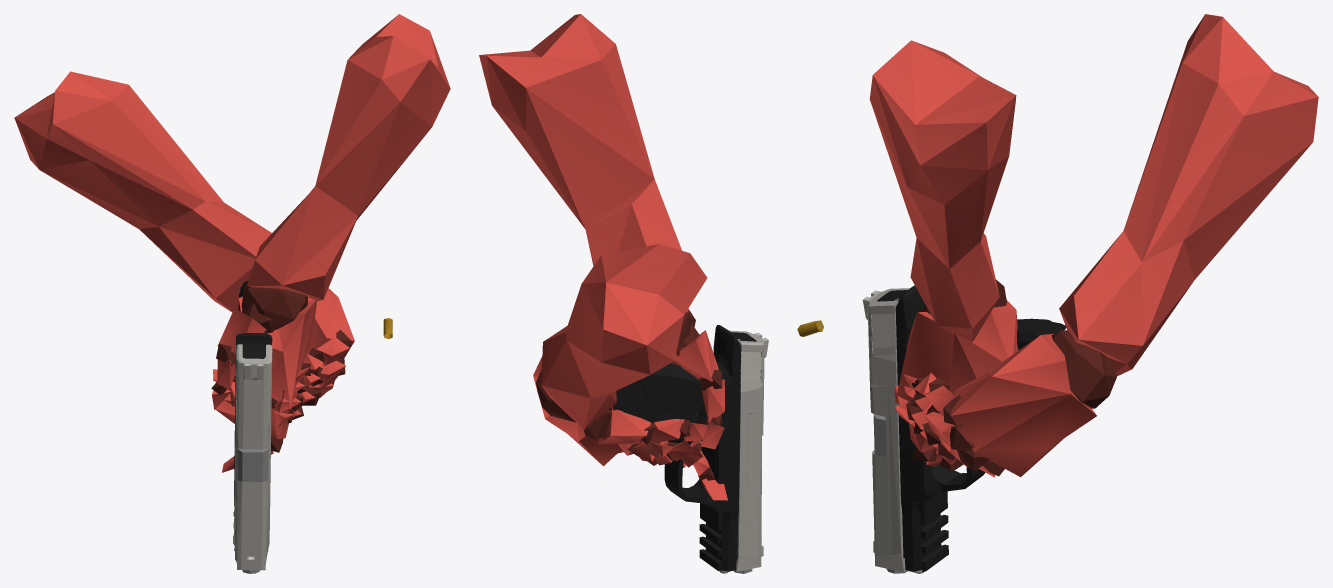
File: M&P9shootExtendLowPoly_000021.obj
The picture shows the model from 3 angles, left to right: view 1: azimuth 30°, elevation 25°; view 2: azimuth 150°, elevation 25°; view 3: azimuth 270°, elevation 25°; orthographic projection. The views are drawn at different scales.
Parts seen in each view (by area): view 1: Beta_Surface, slide_平面.002, Beta_Joints, barrel_円.001, body_平面; view 2: Beta_Surface, body_平面, slide_平面.002, Beta_Joints; view 3: Beta_Surface, body_平面, slide_平面.002, Beta_Joints.
Boxes of the visible parts, x1,y1,x2,y2 form: Beta_Surface: (14, 14, 450, 472); slide_平面.002: (234, 344, 272, 570); Beta_Joints: (211, 285, 351, 452); barrel_円.001: (237, 448, 267, 573); body_平面: (233, 280, 272, 550); Beta_Surface: (479, 14, 727, 500); body_平面: (613, 325, 740, 571); slide_平面.002: (721, 330, 768, 572); Beta_Joints: (536, 309, 722, 487); Beta_Surface: (869, 14, 1318, 477); body_平面: (895, 285, 1066, 571); slide_平面.002: (862, 288, 922, 572); Beta_Joints: (906, 279, 1116, 476).
Size of the model in its own units: 46.82 by 74.51 by 56.89.
